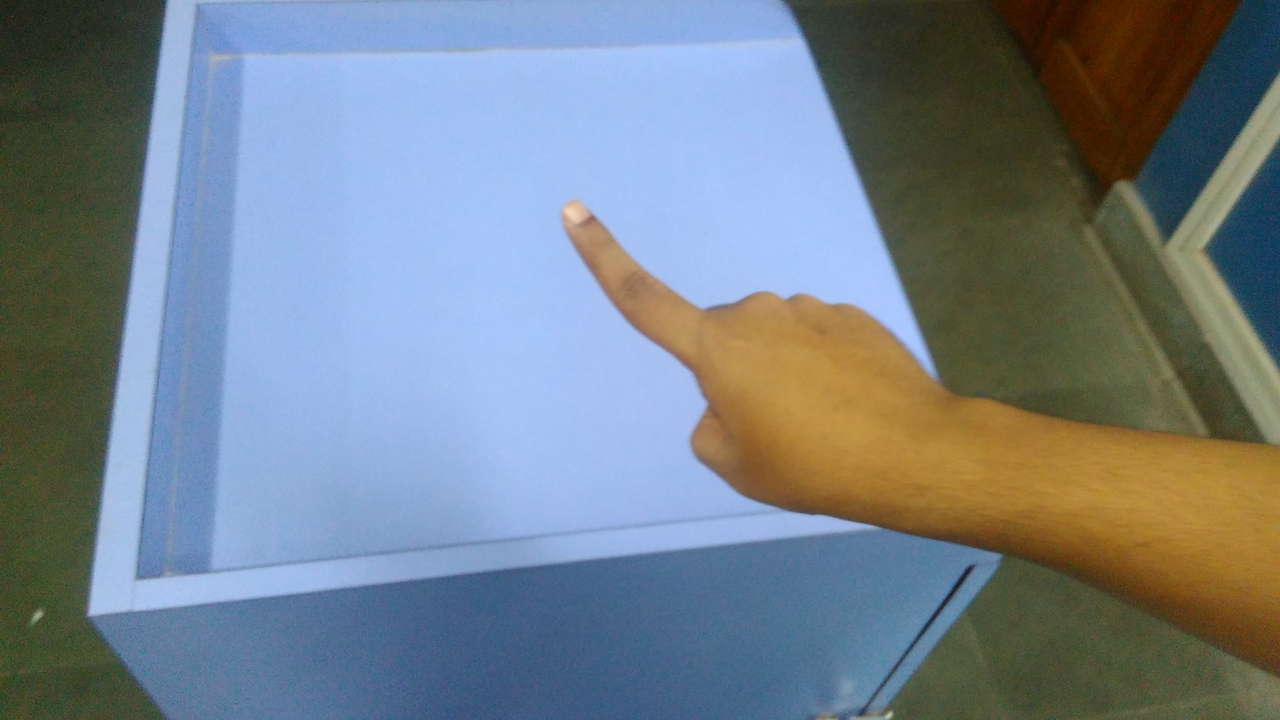fingertip: (544, 186, 612, 240)
